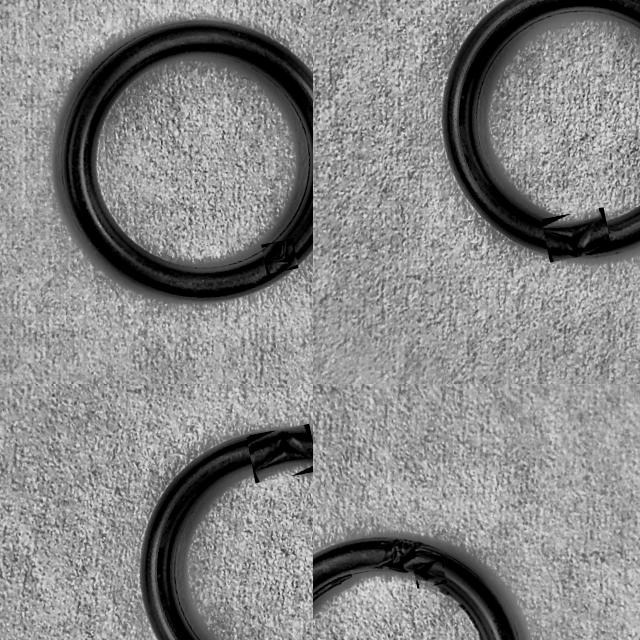切割缺陷: (368, 537, 444, 573), (256, 430, 313, 475), (544, 219, 604, 257), (265, 239, 295, 268), (415, 560, 445, 581)
裂纹: (313, 574, 353, 602), (459, 603, 484, 640), (431, 583, 450, 596)
